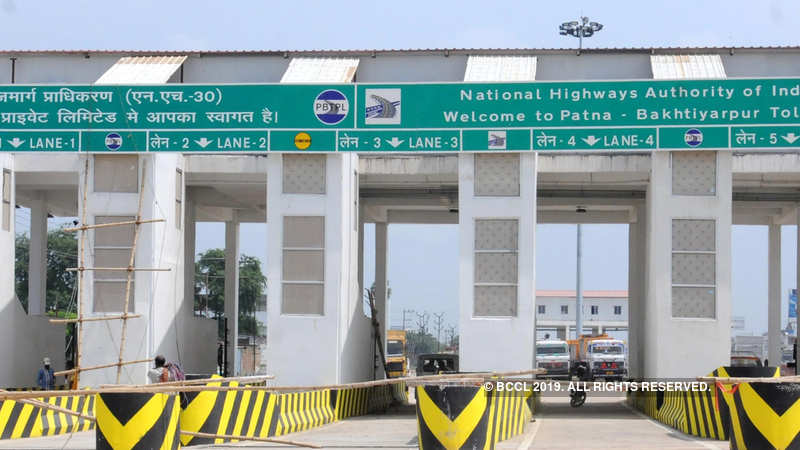toll plaza: (18, 47, 798, 373)
